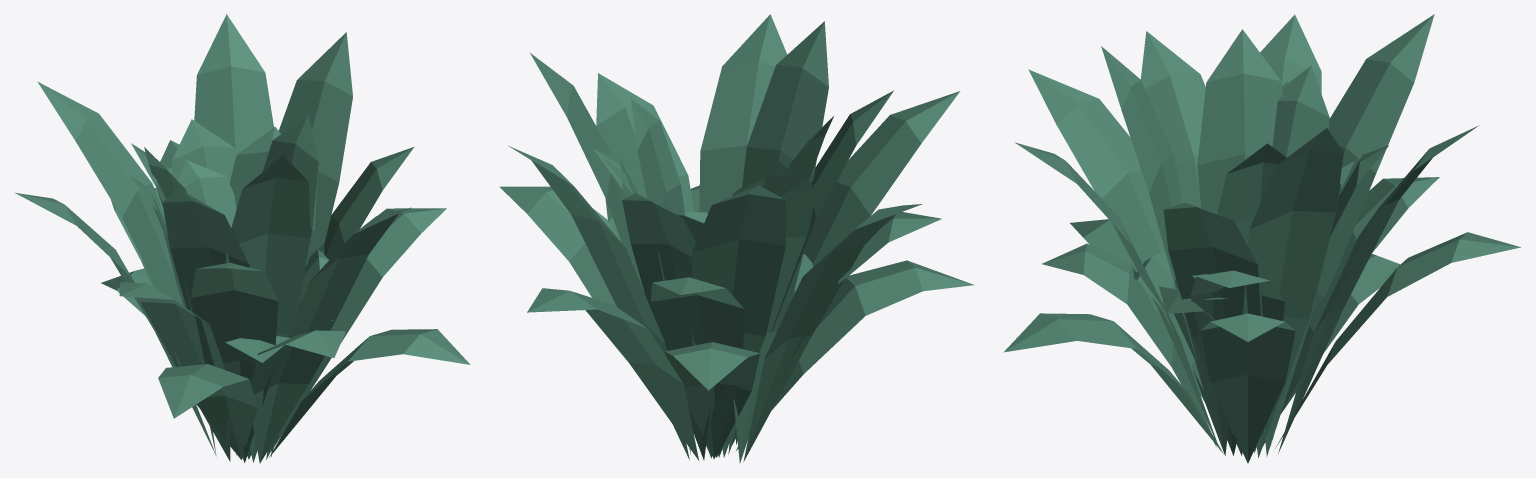
File: agave_lod0.glb
3 views of the same model, side by side, from view 1: azimuth 30°, elevation 25°; view 2: azimuth 150°, elevation 25°; view 3: azimuth 270°, elevation 25° (orthographic). The views are drawn at different scales.
Visible parts, largest first — view 1: agave; view 2: agave; view 3: agave.
Part boxes in pixels (x1=…): agave: x1=14, y1=14, x2=470, y2=463; agave: x1=499, y1=14, x2=974, y2=462; agave: x1=1004, y1=14, x2=1520, y2=463.
Size of the model in its own units: 0.8457 by 0.7105 by 0.8475.
